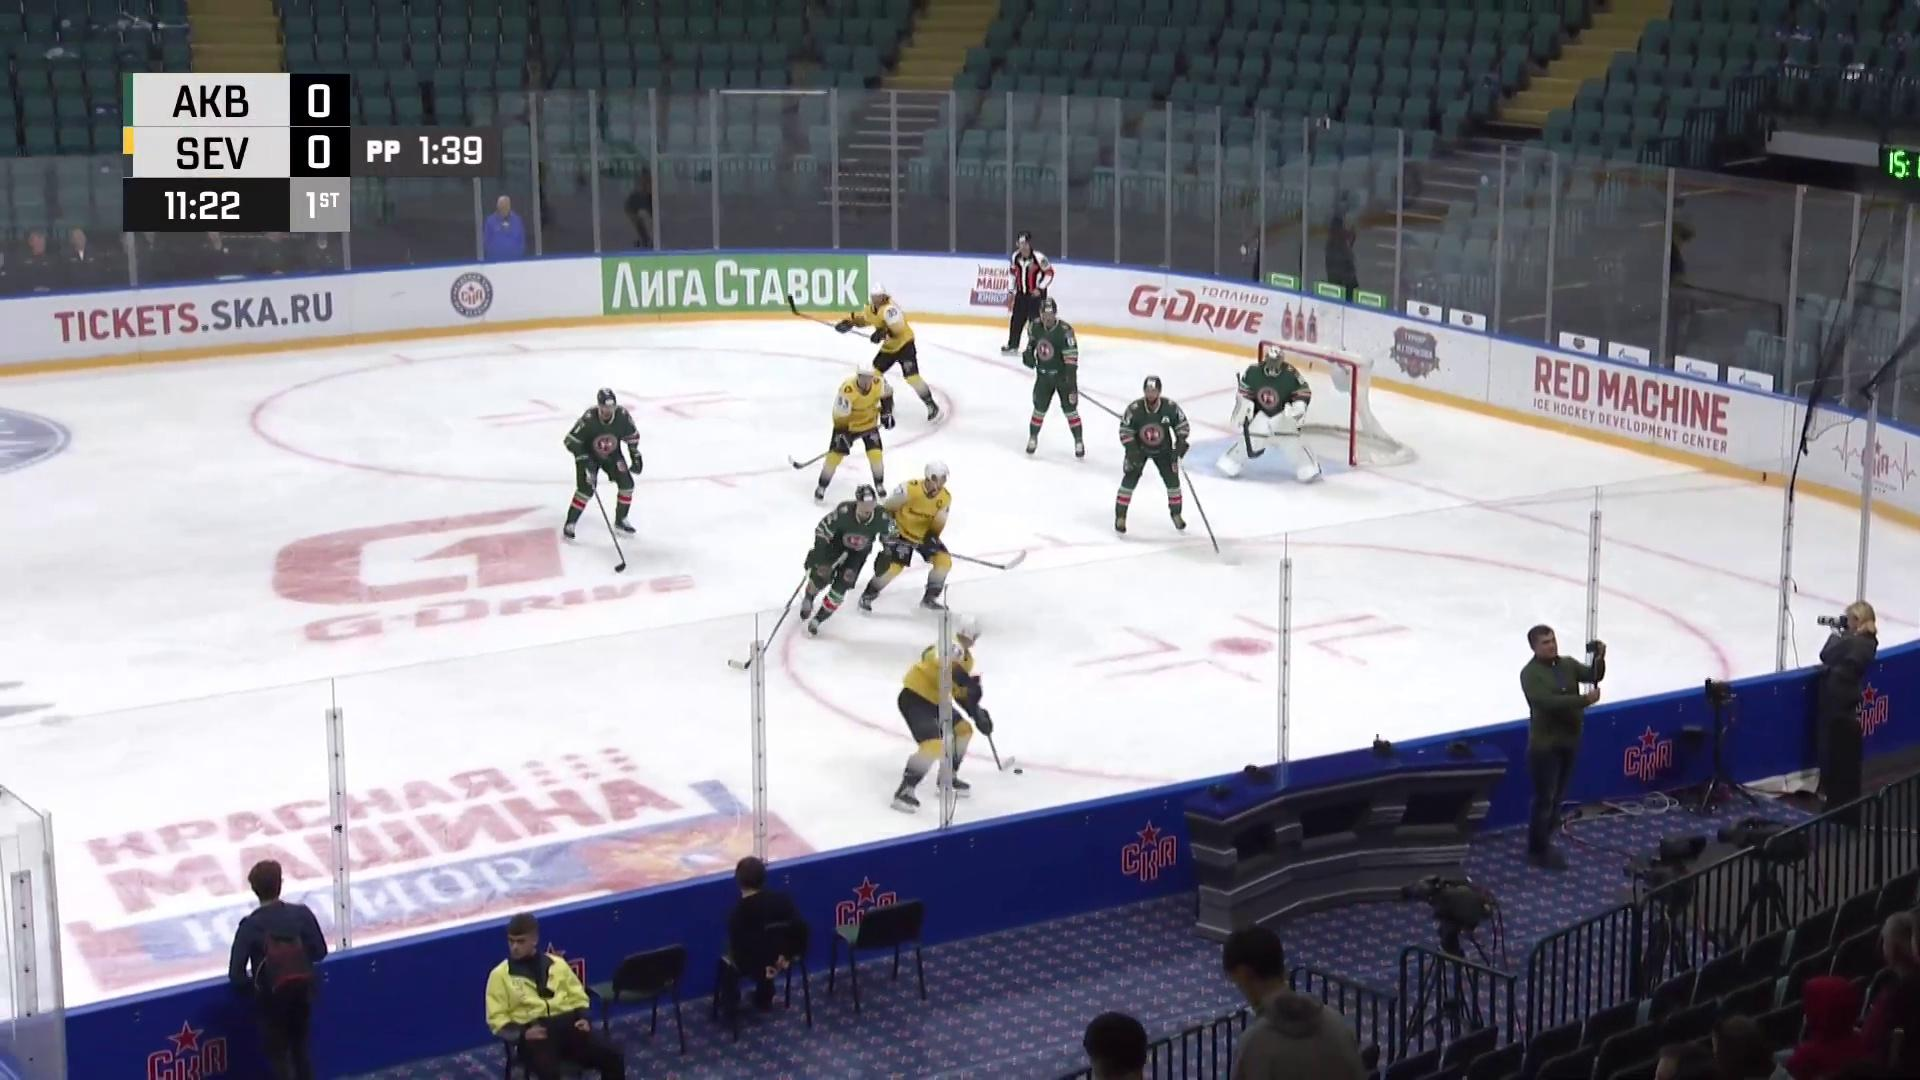ball: (1013, 769, 1025, 774)
